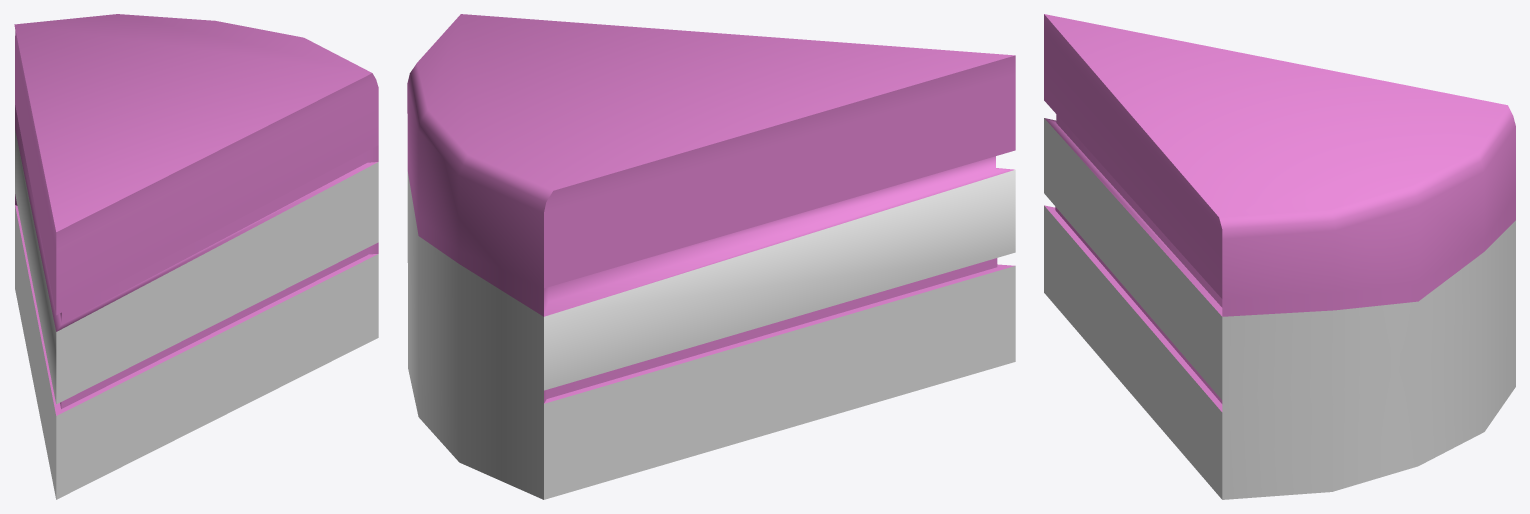
The model's file is CakeSlice.fbx.
The picture shows the model from 3 angles, left to right: view 1: azimuth 30°, elevation 25°; view 2: azimuth 150°, elevation 25°; view 3: azimuth 270°, elevation 25°; orthographic projection. The views are drawn at different scales.
Visible parts, largest first — view 1: Cube.010; view 2: Cube.010; view 3: Cube.010.
Boxes of the visible parts, x1,y1,x2,y2 form: Cube.010: (14,14,378,499); Cube.010: (407,14,1015,499); Cube.010: (1044,14,1515,499).
Bounding box in the file's own units: 38.71 × 24.33 × 37.24.
